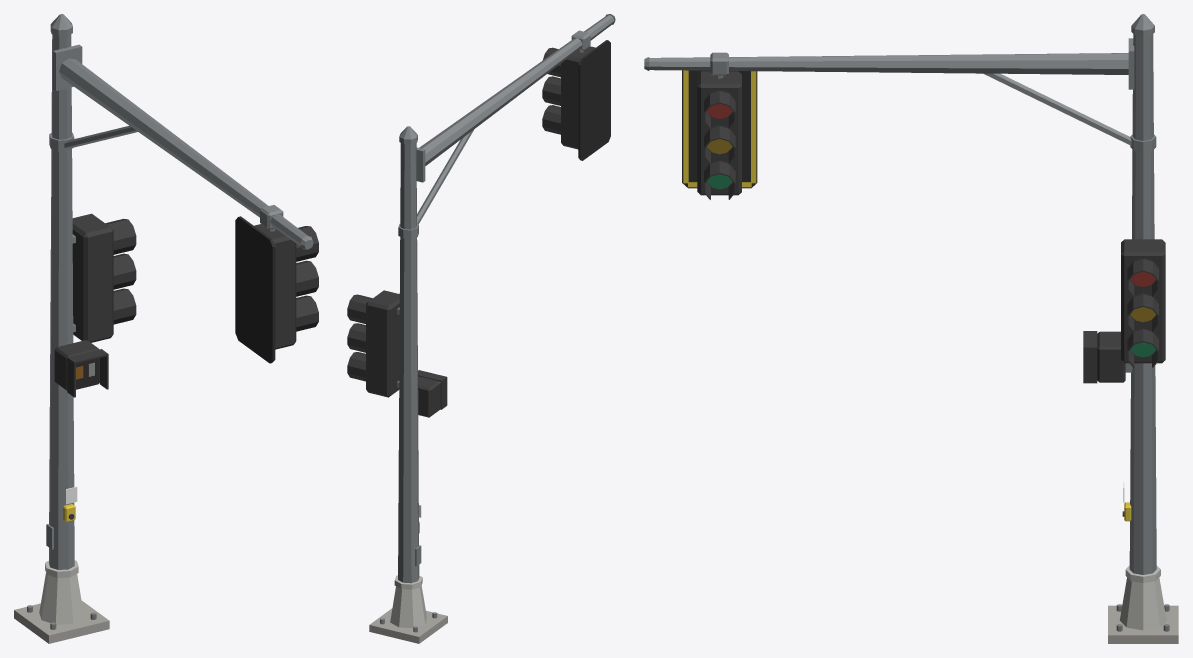
The model's file is traffic-signal.glb.
3 views of the same model, side by side, from view 1: azimuth 30°, elevation 25°; view 2: azimuth 150°, elevation 25°; view 3: azimuth 270°, elevation 25° (orthographic). The views are drawn at different scales.
Parts seen in each view (by area): view 1: traffic-signal; view 2: traffic-signal; view 3: traffic-signal.
Boxes of the visible parts, x1,y1,x2,y2 form: traffic-signal: (14,14,318,643); traffic-signal: (347,14,615,643); traffic-signal: (644,14,1178,643).
Bounding box in the file's own units: 0.96 × 5.76 × 4.54.
